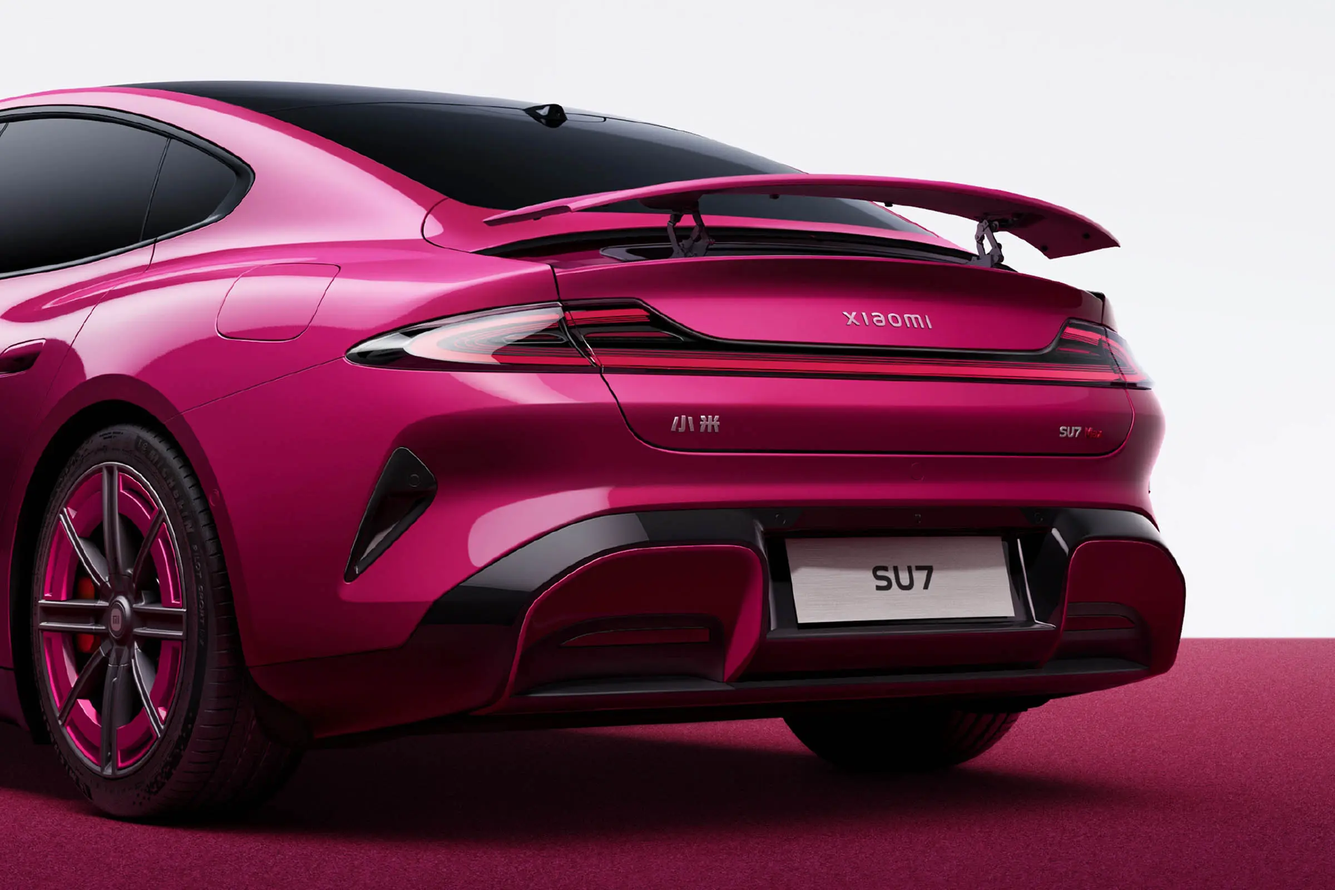su7: (0, 80, 1204, 834)
